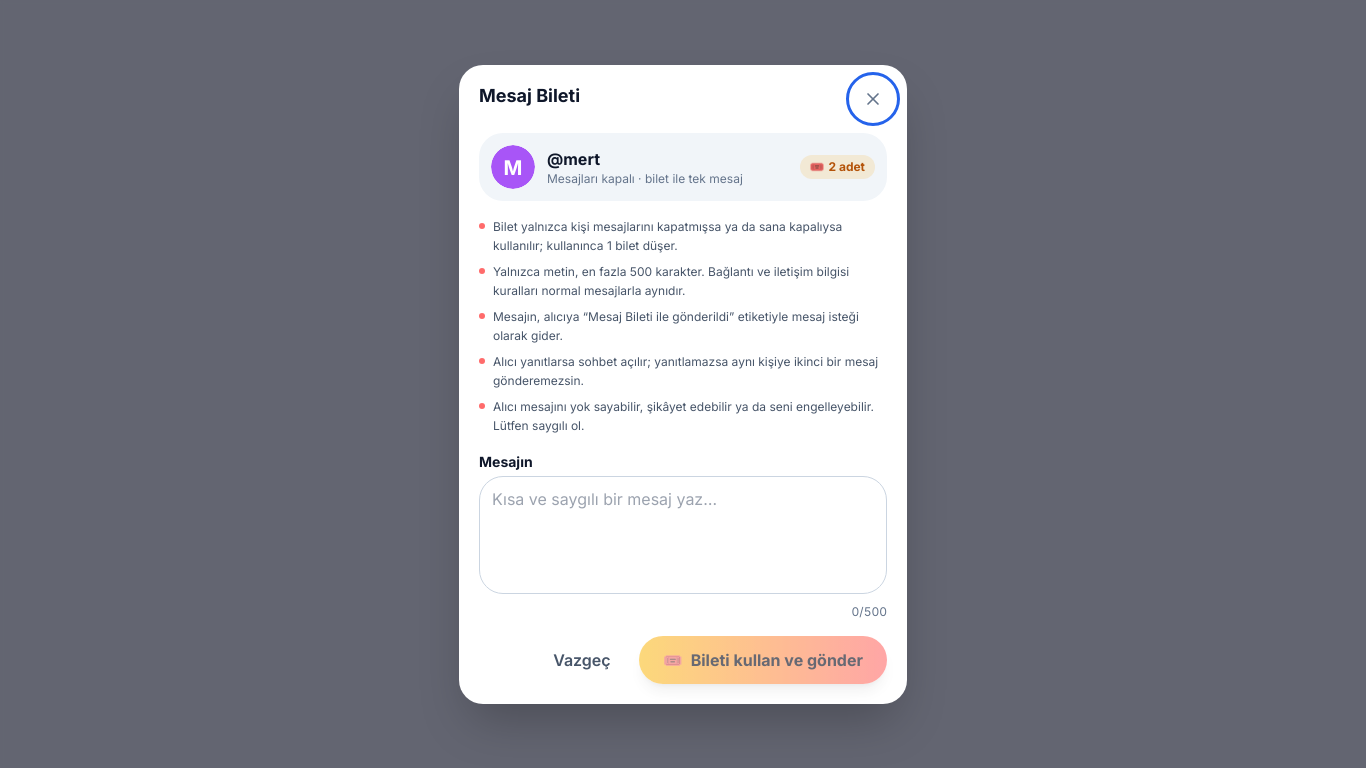
Test case: MessageTicketDialog › gönderim hatası neden taşıyorsa ilgili açıklamaya geçer; taşımıyorsa formda kalır
Type "selam" into the text box labelled "Mesajın" at (683, 534), box [479,476,887,594]
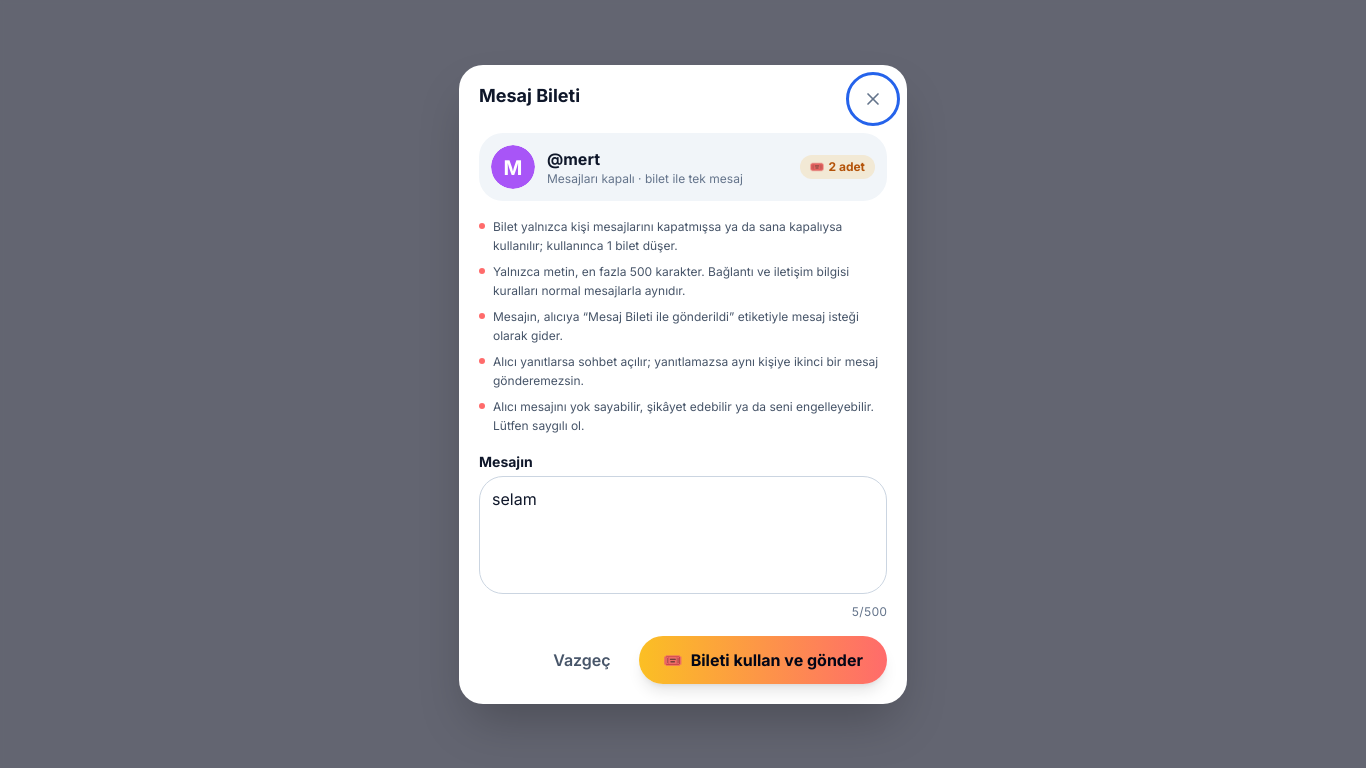
Click the button "🎟️ Bileti kullan ve gönder" at (763, 660), box [639,636,887,684]
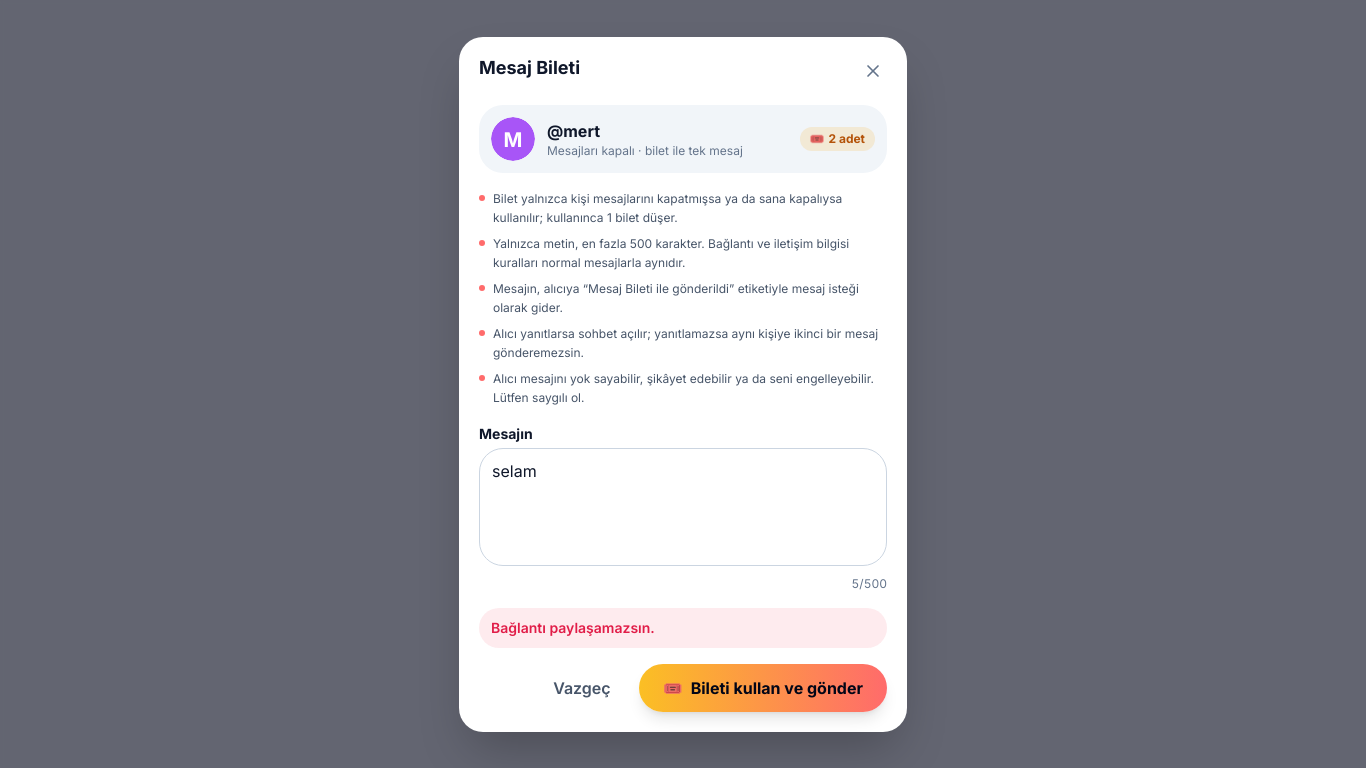
expect the message reads "Bağlantı paylaşamazsın.": met, box [491,618,655,636]
Click the button "🎟️ Bileti kullan ve gönder" at (763, 688), box [639,664,887,712]
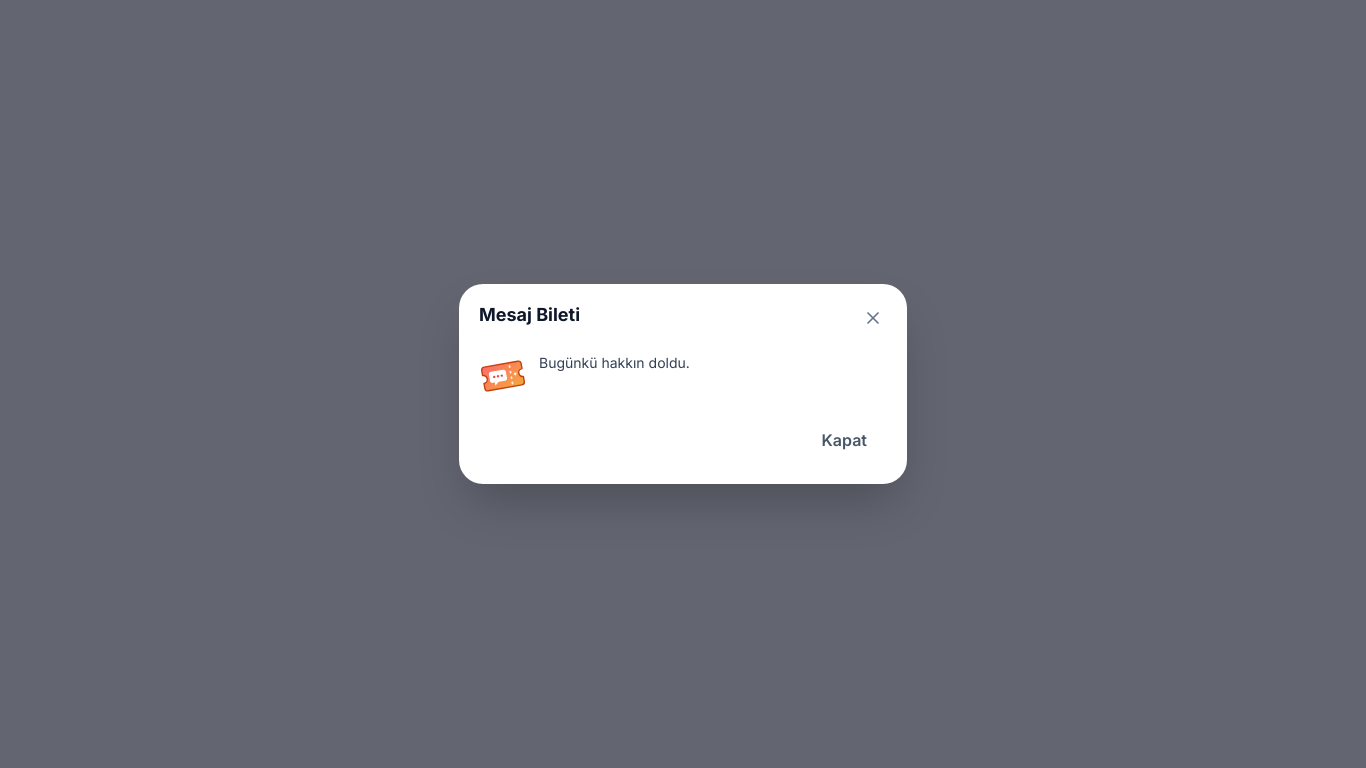
expect the element with test id "ticket-reason-daily_limit" shows "Bugünkü hakkın doldu.": met, box [539,354,690,371]
